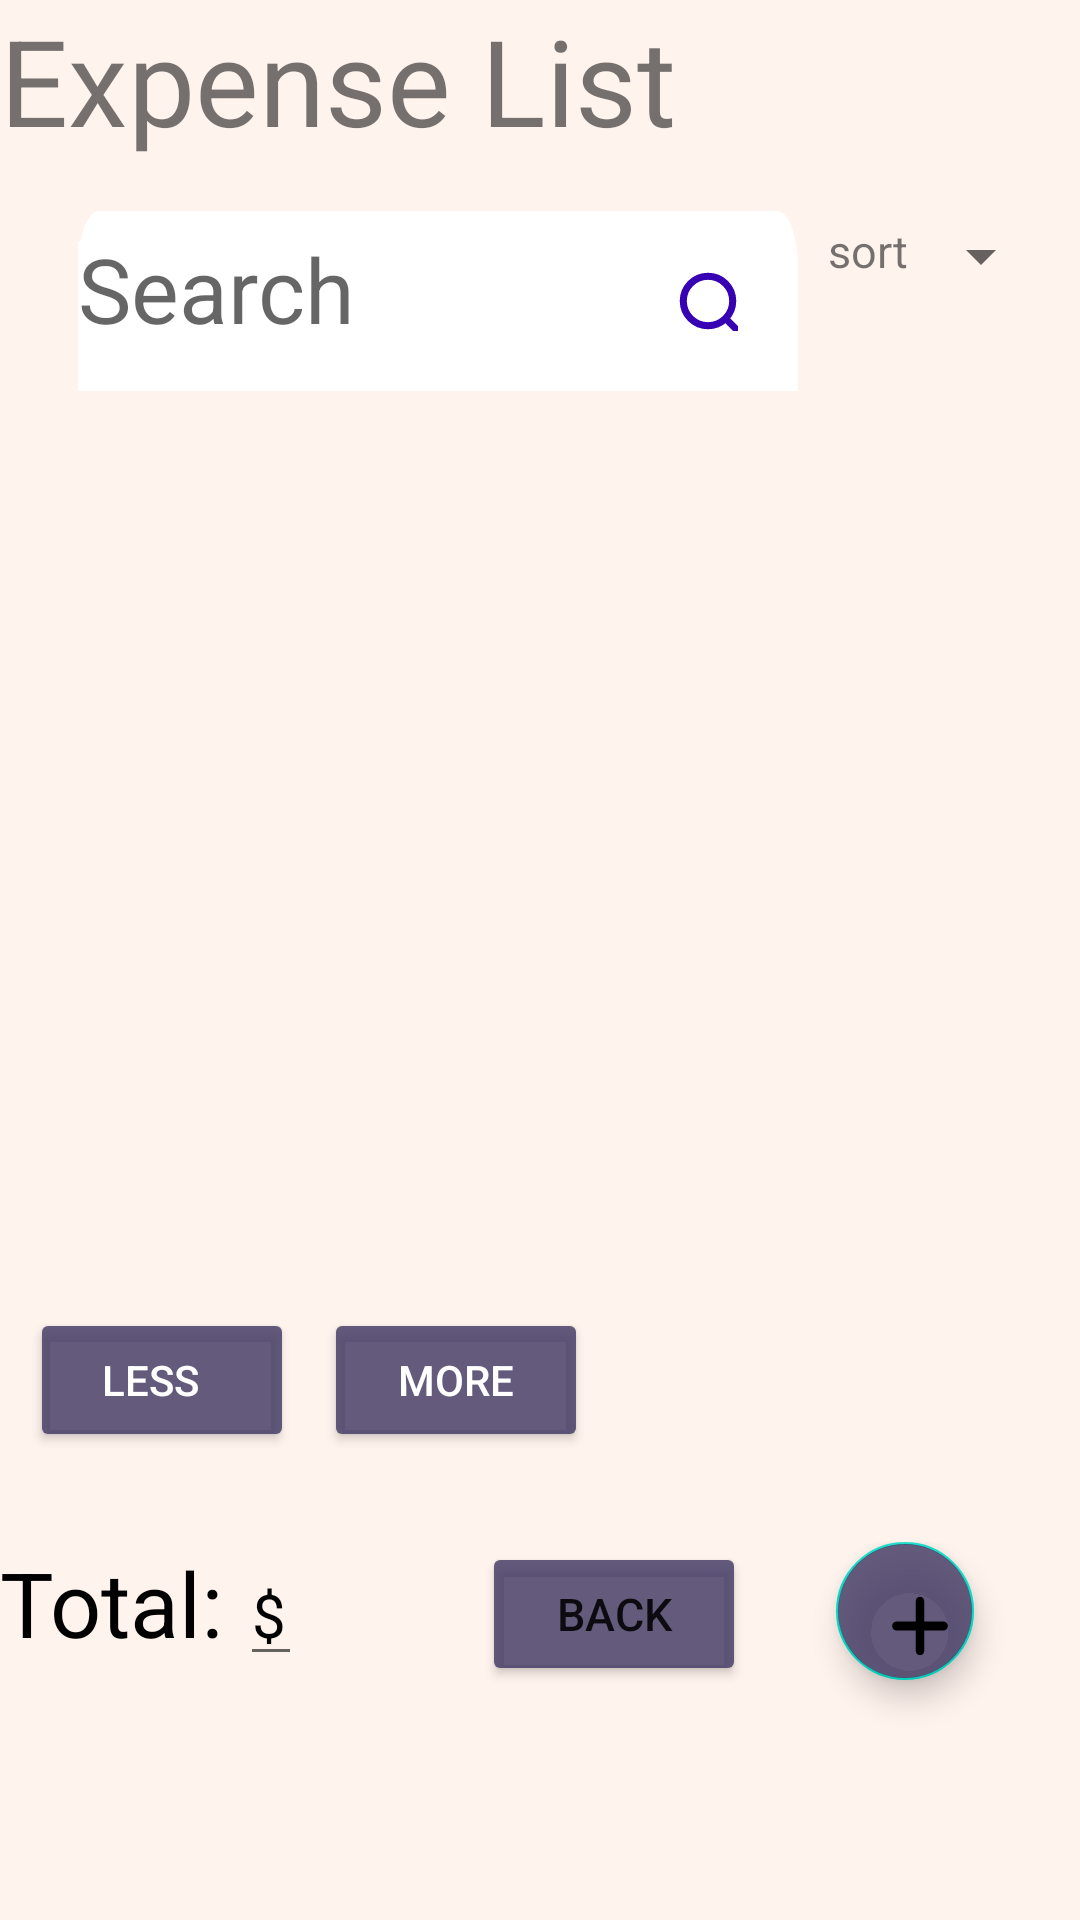

Where icons sit on this 1080w x 1920h app screen, as (x1, y1, x2, y2):
plus: (836, 1542, 974, 1680)
